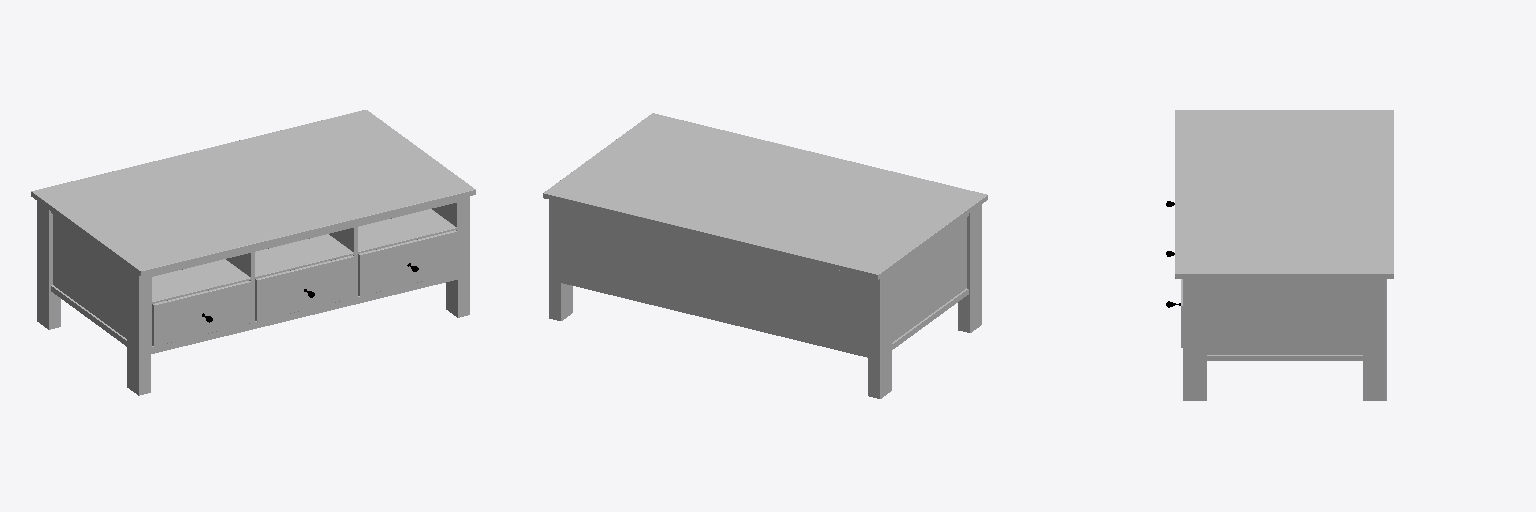
File: MuebleMedianoParaTele.obj
3 renders of one model, left to right at view 1: azimuth 30°, elevation 25°; view 2: azimuth 150°, elevation 25°; view 3: azimuth 270°, elevation 25°, orthographic.
Parts seen in each view (by area): view 1: Box001_Material.003; view 2: Box001_Material.003; view 3: Box001_Material.003.
Boxes of the visible parts, x1,y1,x2,y2 form: Box001_Material.003: [31, 110, 475, 395]; Box001_Material.003: [543, 113, 987, 398]; Box001_Material.003: [1175, 110, 1393, 400].
Bounding box in the file's own units: 39.26 × 14.27 × 23.19.